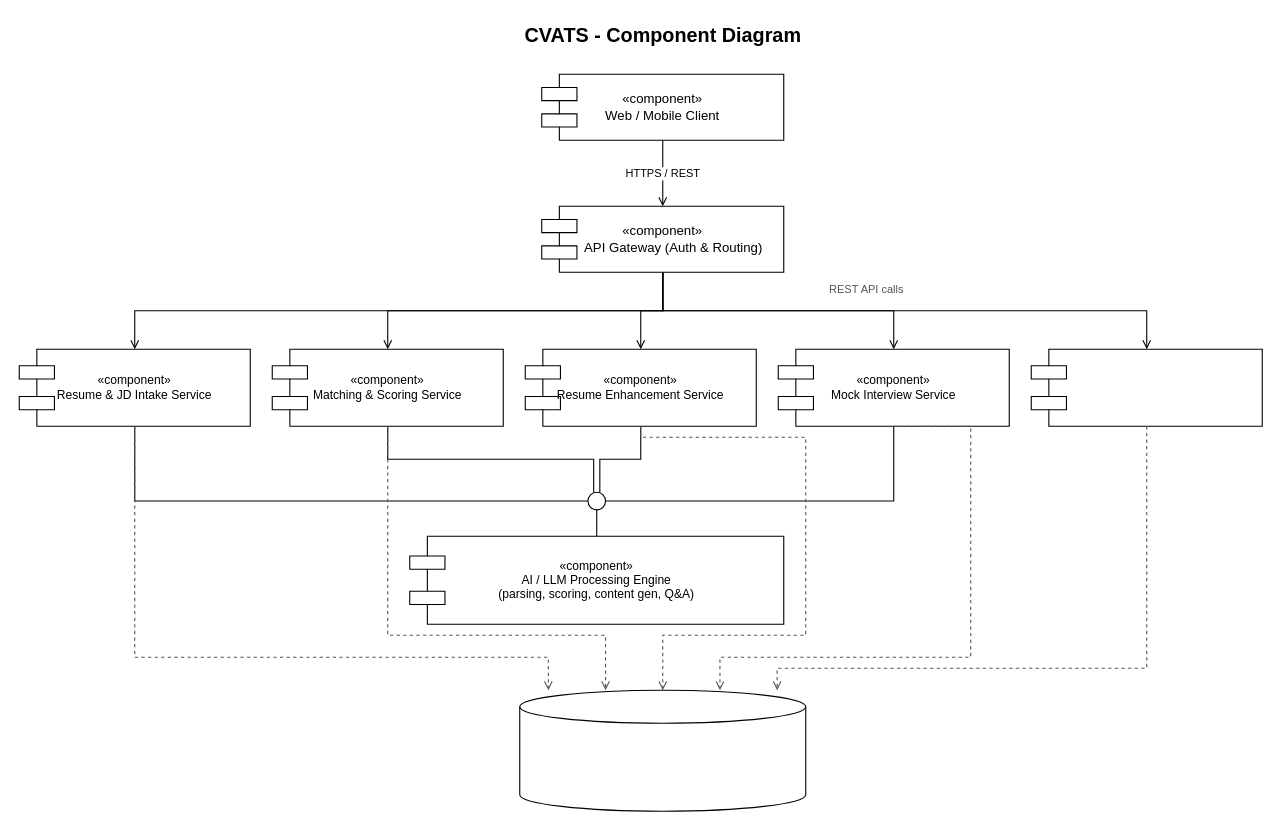
The diagram is 1282 pixels wide and 831 high, and some of its shapes have lost their labels. Here are the shapes that lost their labels. From the top down, the centre of each, then its label:
At (1146,387): "«component» Reports & History Service".
At (596,500): "LLM PROCESSING".
At (662,750): "Database (Users, Resumes, JDs, Scores, Interview History)".
